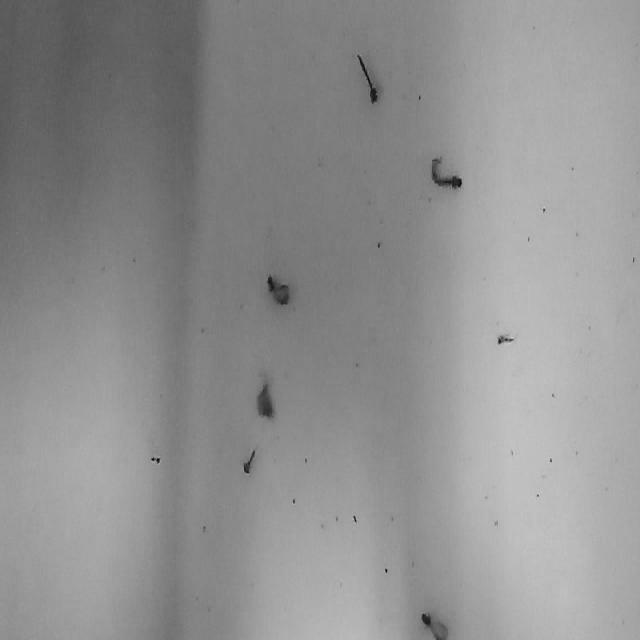larvas: (354, 51, 380, 105), (430, 154, 463, 192), (420, 612, 449, 640), (266, 273, 290, 305), (256, 384, 276, 418), (242, 449, 256, 474), (496, 332, 516, 344)
